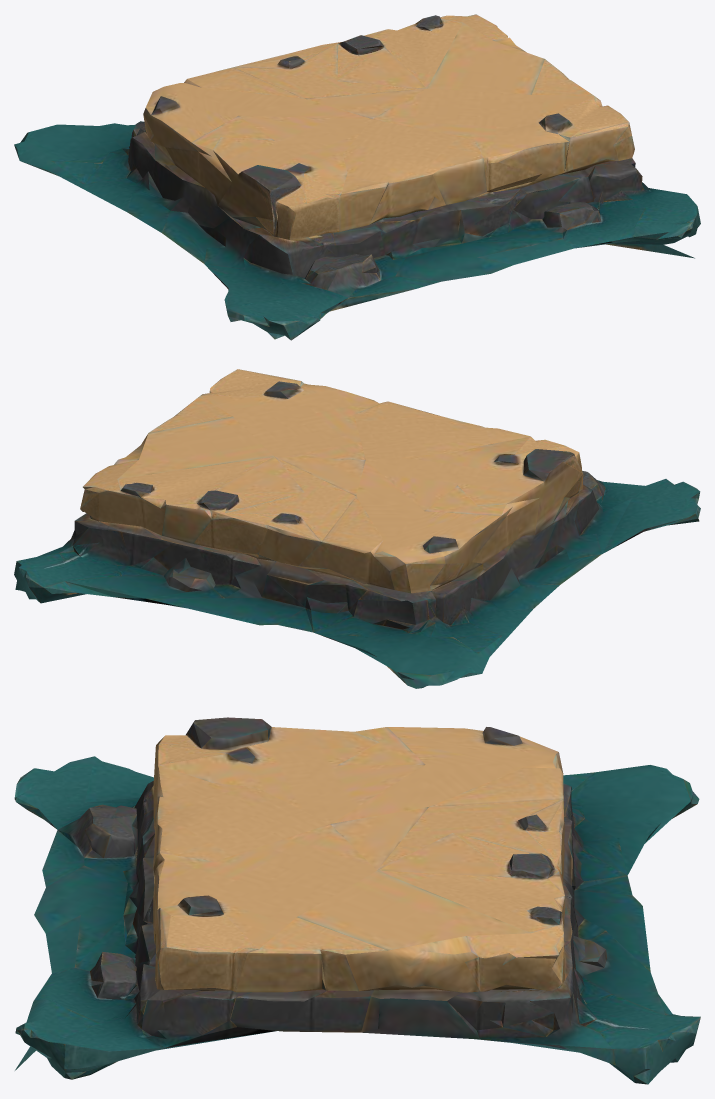
Rendered from lagoon-platform.lod.glb.
The picture shows the model from 3 angles, top to bottom: view 1: azimuth 30°, elevation 25°; view 2: azimuth 150°, elevation 25°; view 3: azimuth 270°, elevation 25°; orthographic projection. The views are drawn at different scales.
Parts seen in each view (by area): view 1: output_unwrapped; view 2: output_unwrapped; view 3: output_unwrapped.
Boxes of the visible parts, x1=… form: output_unwrapped: x1=14, y1=14, x2=700, y2=340; output_unwrapped: x1=14, y1=369, x2=700, y2=688; output_unwrapped: x1=14, y1=717, x2=700, y2=1084.
Size of the model in its own units: 1.9 by 0.404 by 1.89.
1 material, 1 textured.
